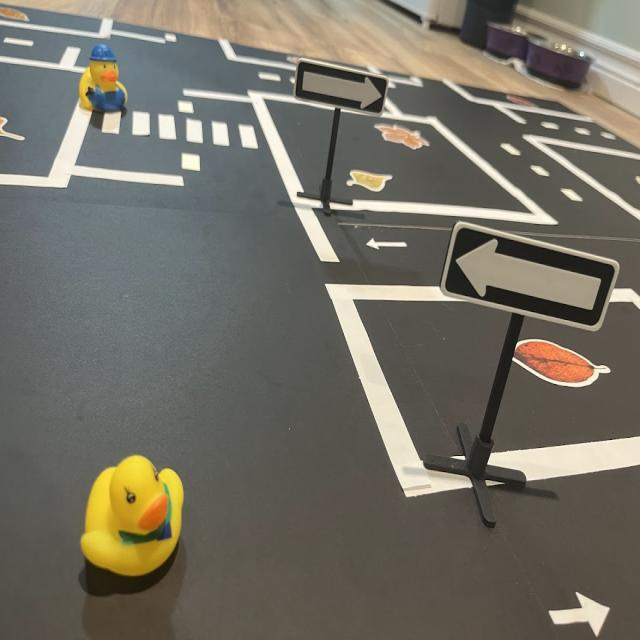duck_regular: (77, 452, 190, 581)
duck_specialty: (77, 39, 133, 116)
road_crosswalk: (98, 105, 264, 151)
road_oneway: (546, 585, 615, 640), (364, 234, 411, 254)
sign_oneway_left: (441, 225, 619, 332)
sign_oneway_right: (294, 60, 392, 119)
